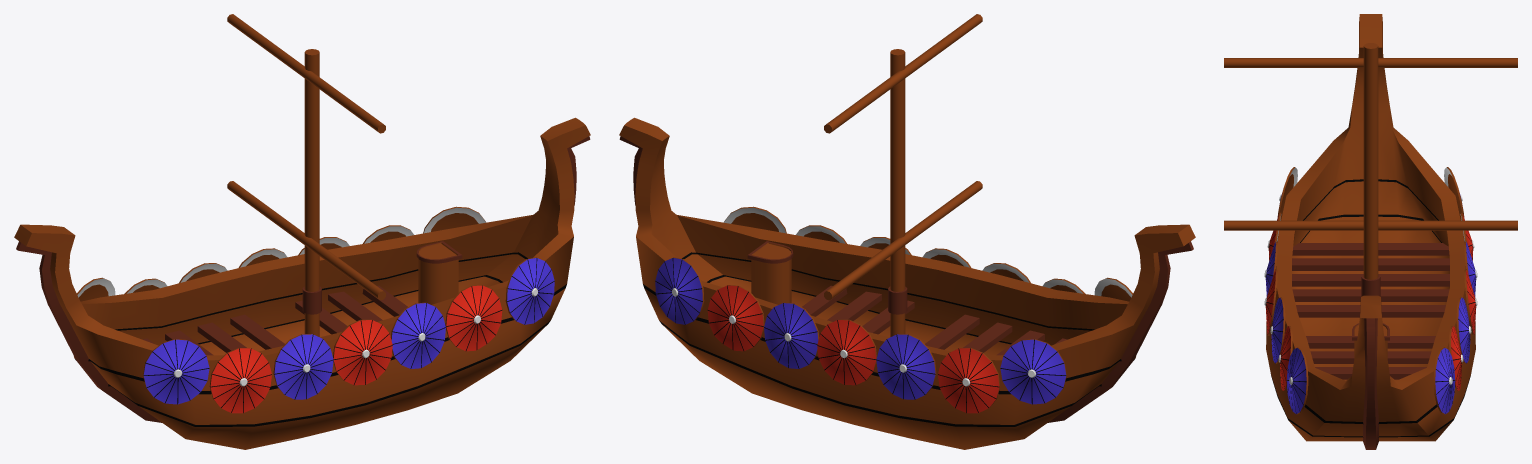
Rendered from Ship.fbx.
The picture shows the model from 3 angles, left to right: view 1: azimuth 30°, elevation 25°; view 2: azimuth 150°, elevation 25°; view 3: azimuth 270°, elevation 25°; orthographic projection. The views are drawn at different scales.
Parts seen in each view (by area): view 1: Ship; view 2: Ship; view 3: Ship.
Part boxes in pixels (<box>): Ship: <box>14,14,590,449</box>; Ship: <box>619,14,1195,449</box>; Ship: <box>1224,14,1517,449</box>.
Size of the model in its own units: 772 by 450 by 353.
